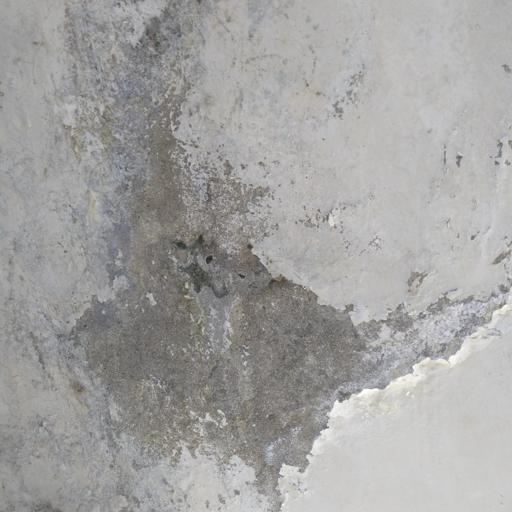peeling: (42, 2, 512, 511)
